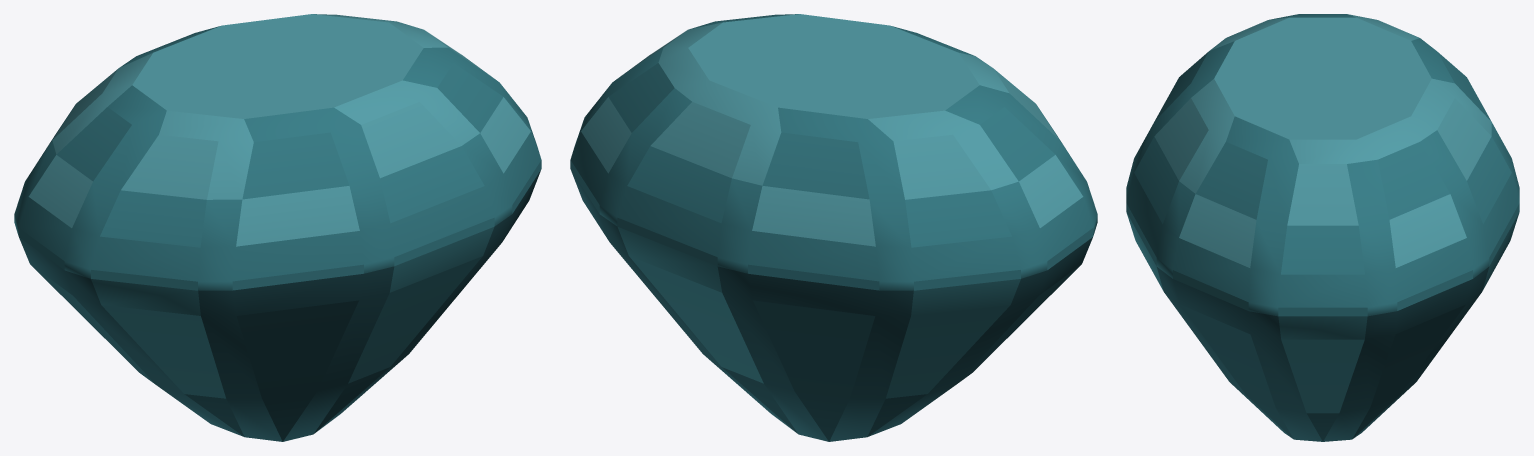
File: Gem_17.glb
3 views of the same model, side by side, from view 1: azimuth 30°, elevation 25°; view 2: azimuth 150°, elevation 25°; view 3: azimuth 270°, elevation 25° (orthographic). The views are drawn at different scales.
Parts seen in each view (by area): view 1: Gem_17; view 2: Gem_17; view 3: Gem_17.
Boxes of the visible parts, box(x1,y1,x2,y2) form: Gem_17: box(14, 14, 541, 441); Gem_17: box(570, 14, 1097, 441); Gem_17: box(1126, 14, 1519, 441).
Size of the model in its own units: 0.913 by 0.6589 by 0.6775.
